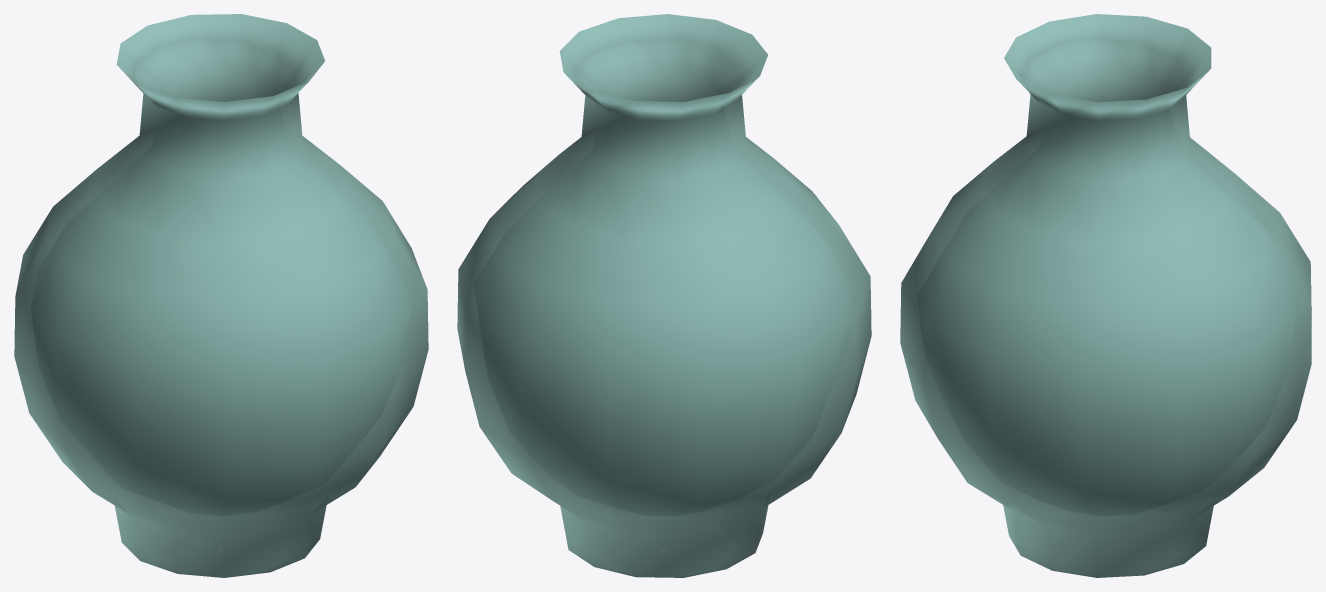
File: vaas.fbx
The picture shows the model from 3 angles, left to right: view 1: azimuth 30°, elevation 25°; view 2: azimuth 150°, elevation 25°; view 3: azimuth 270°, elevation 25°; orthographic projection.
Parts seen in each view (by area): view 1: nurbsToPoly1; view 2: nurbsToPoly1; view 3: nurbsToPoly1.
Boxes of the visible parts, bbox=[...] form: nurbsToPoly1: bbox=[14, 14, 428, 577]; nurbsToPoly1: bbox=[457, 14, 871, 577]; nurbsToPoly1: bbox=[900, 14, 1311, 577].
Size of the model in its own units: 6.15 by 8.06 by 6.1.
